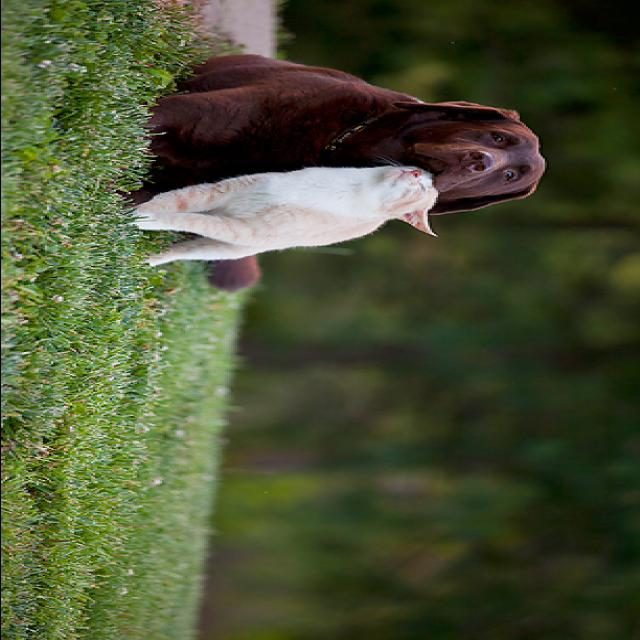cat: (128, 165, 452, 266)
dog: (102, 54, 550, 290)
